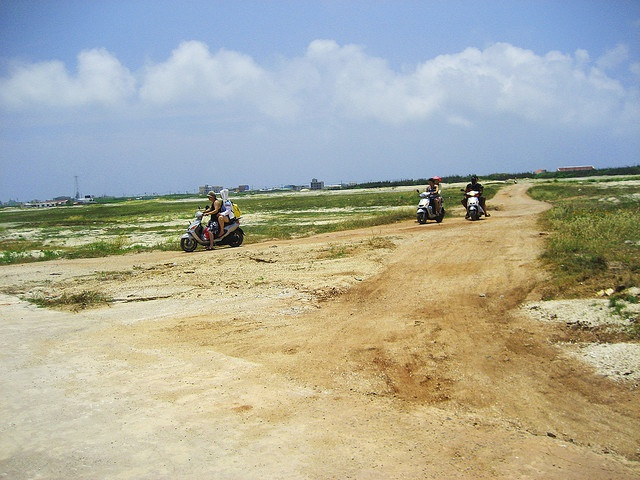non-vehicle: (179, 204, 245, 251), (415, 189, 445, 223), (460, 185, 484, 220)
